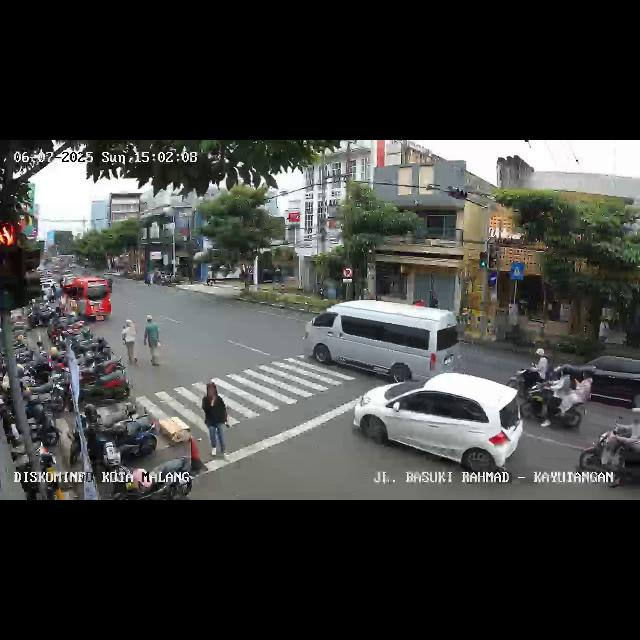car: (356, 373, 520, 483), (306, 299, 456, 389), (568, 351, 640, 417), (60, 276, 111, 324)
motorcycle: (520, 359, 588, 433), (580, 416, 638, 492)
person: (200, 381, 232, 465), (144, 314, 160, 366), (122, 316, 138, 368)
